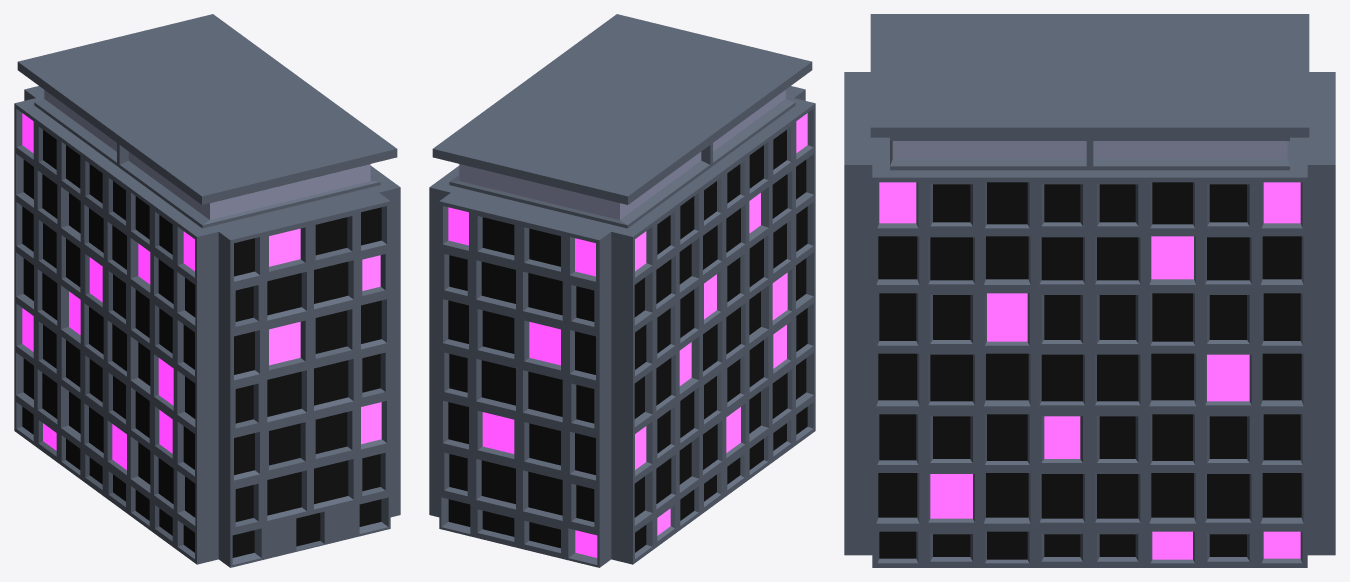
File: Building4.fbx
3 renders of one model, left to right at view 1: azimuth 30°, elevation 25°; view 2: azimuth 150°, elevation 25°; view 3: azimuth 270°, elevation 25°, orthographic. The views are drawn at different scales.
Visible parts, largest first — view 1: Box001.003; view 2: Box001.003; view 3: Box001.003.
Part boxes in pixels (x1,y1,x2,y2): Box001.003: [14, 14, 400, 567]; Box001.003: [429, 14, 815, 567]; Box001.003: [844, 14, 1335, 567].
Bounding box in the file's own units: 948 × 1636 × 1662.
